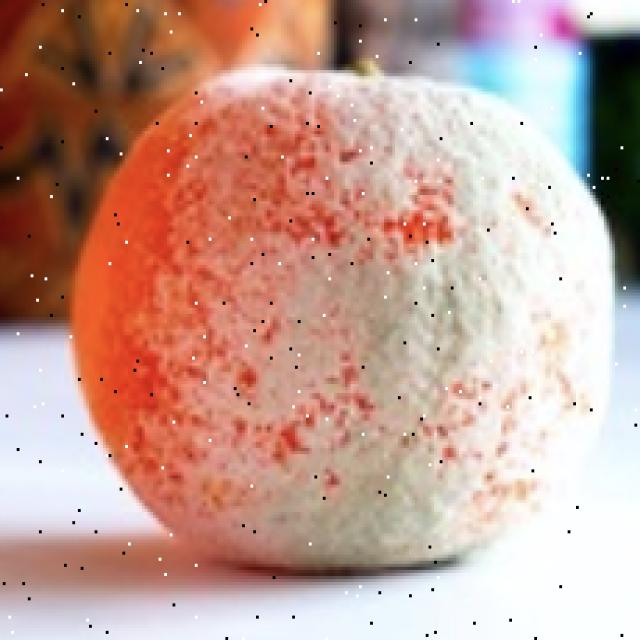Organik: (60, 18, 622, 596)
